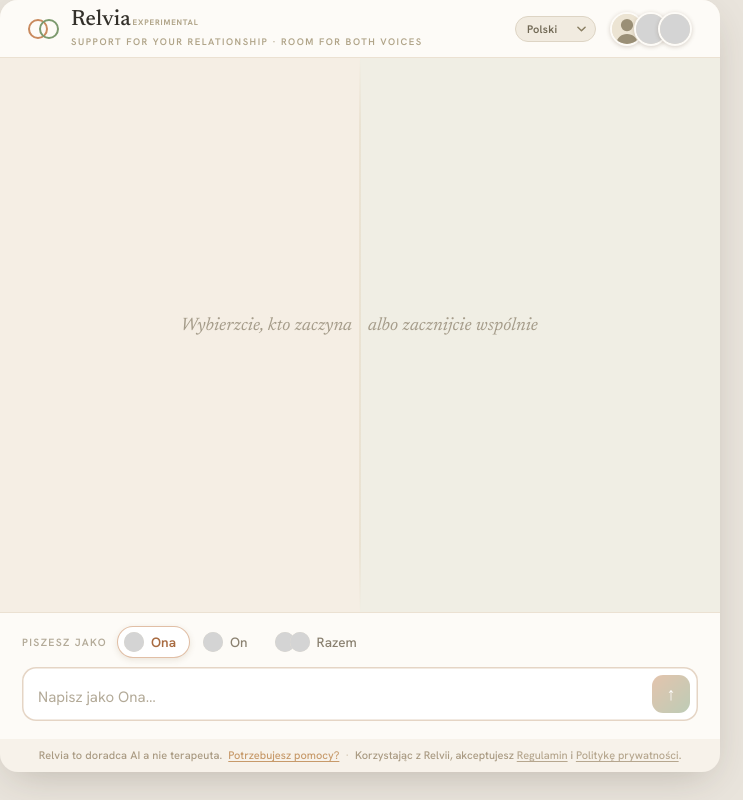
zmiana języka a stan rozmowy › nie kasuje historii, nie tworzy nowej konwersacji, a NASTĘPNY request niesie nowe locale
In the text box with placeholder "Napisz jako Ona…": (340, 698) x1=38 y1=683 x2=642 y2=713, type "Pierwsza wiadomość o nas"
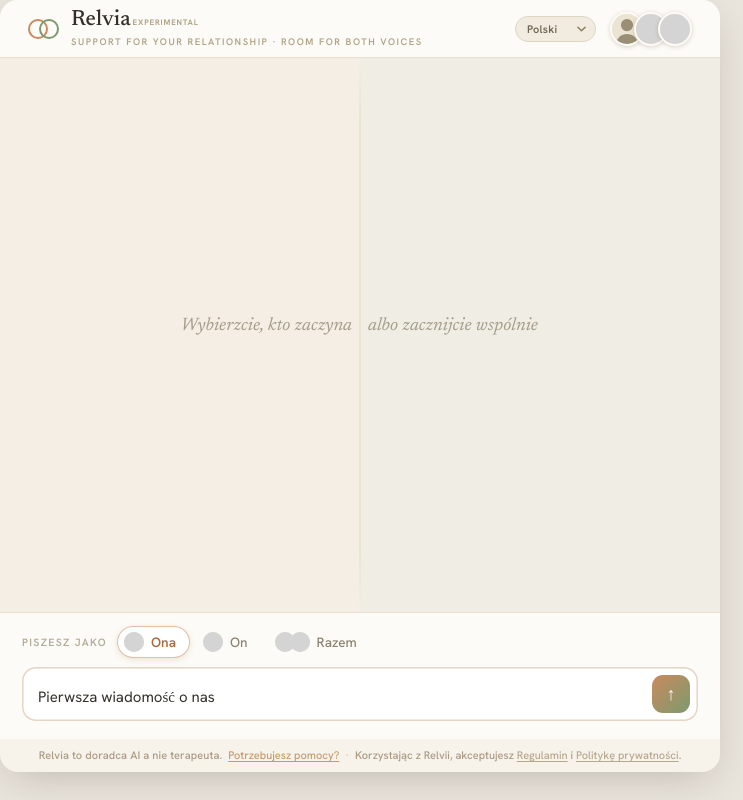
Click the button with class "send": click(671, 694) x1=652 y1=675 x2=690 y2=713
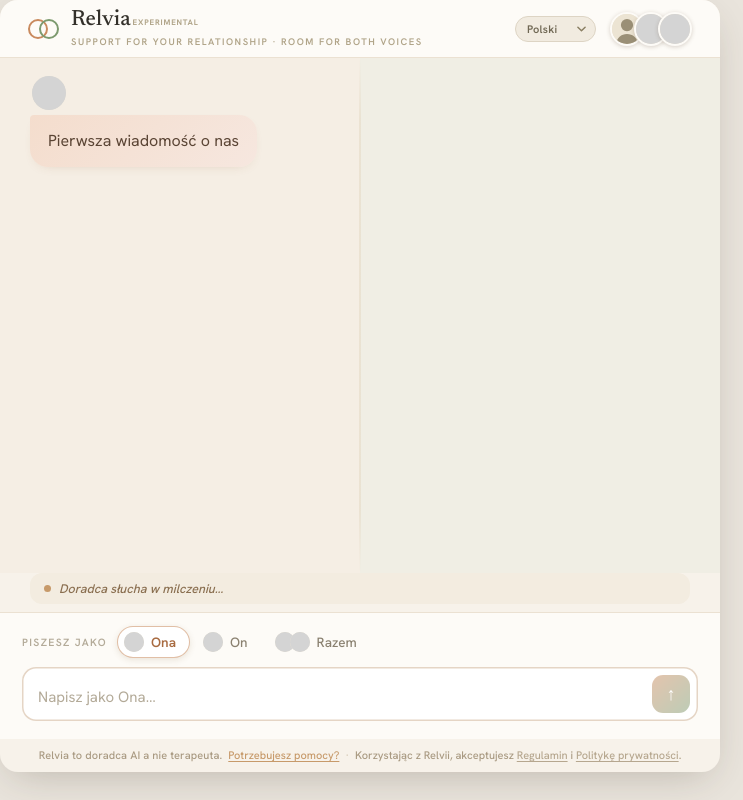
Check: the text "Pierwsza wiadomość o nas" is shown, box x1=30 y1=115 x2=257 y2=167
Select "Deutsch" in the dropdown named "Język": (556, 28) x1=515 y1=16 x2=596 y2=42
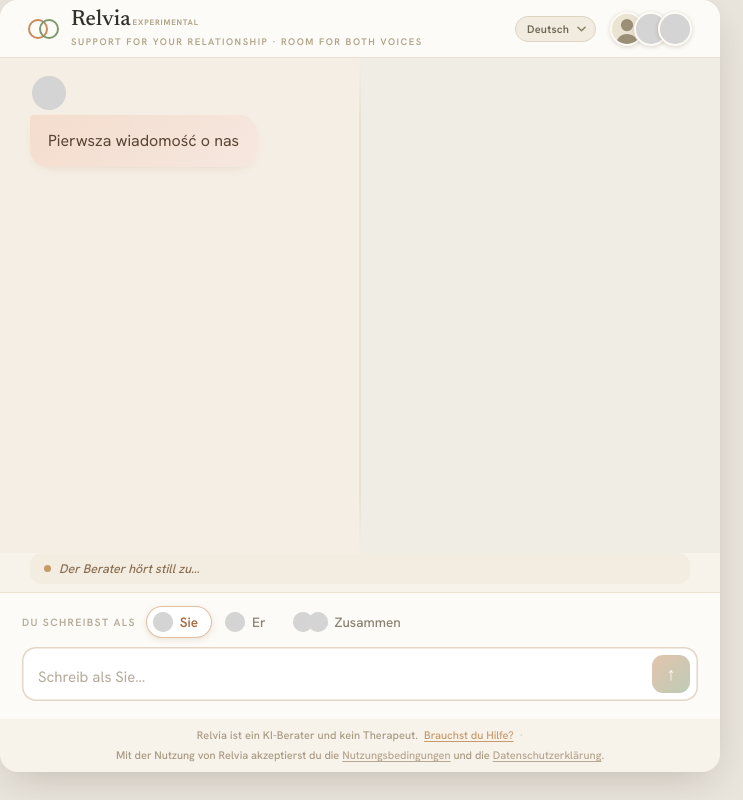
Check: the text "Pierwsza wiadomość o nas" is shown, box x1=30 y1=115 x2=257 y2=167
Check: the text with class "author-select-label" reads "Du schreibst als", box x1=22 y1=615 x2=136 y2=629
In the text box with placeholder "Schreib als Sie…": (340, 678) x1=38 y1=663 x2=642 y2=693, type "Zweite Nachricht"
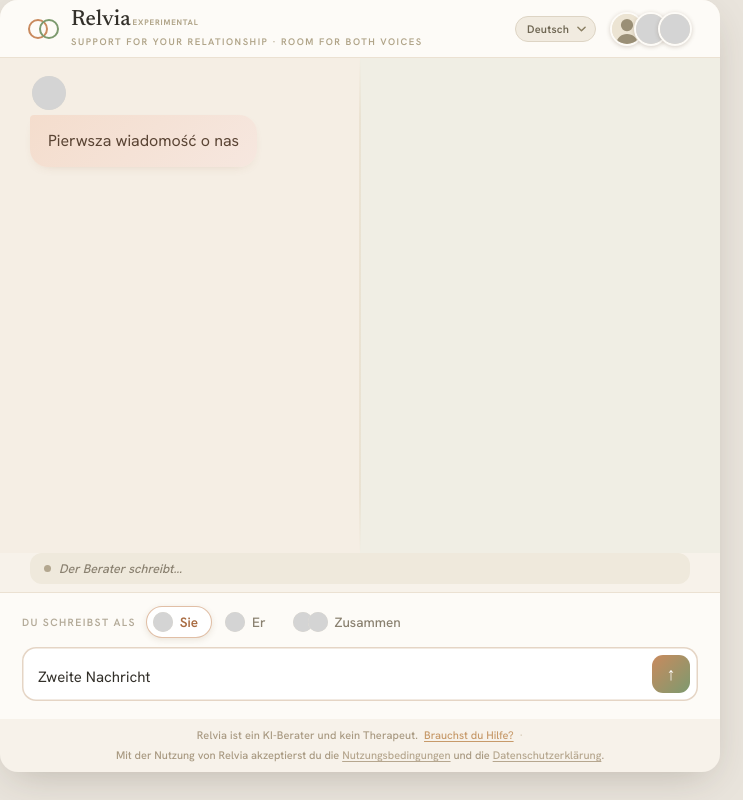
Click the button with class "send": click(671, 674) x1=652 y1=655 x2=690 y2=693
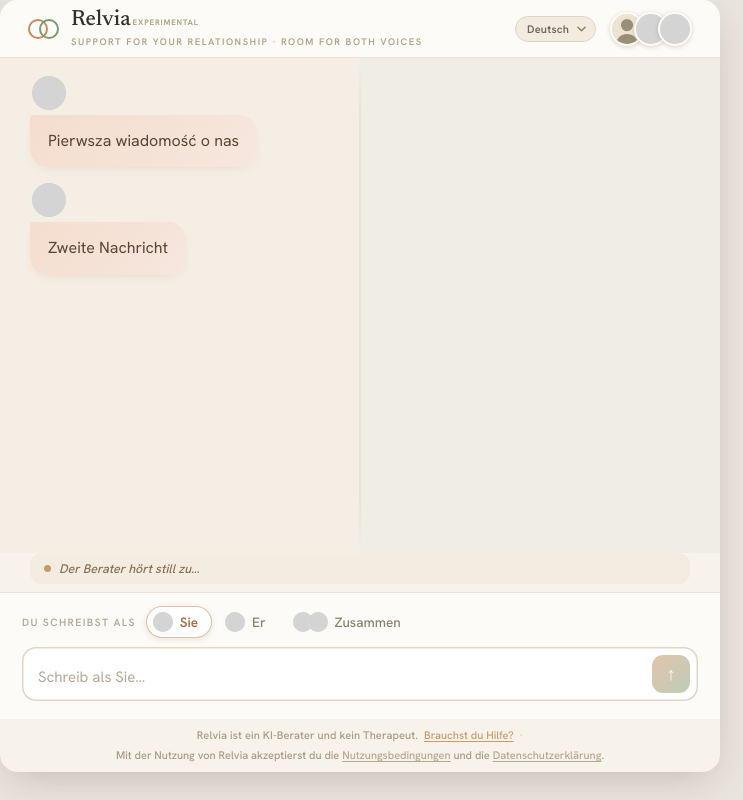
Check: the text "Zweite Nachricht" is shown, box x1=30 y1=222 x2=186 y2=275
